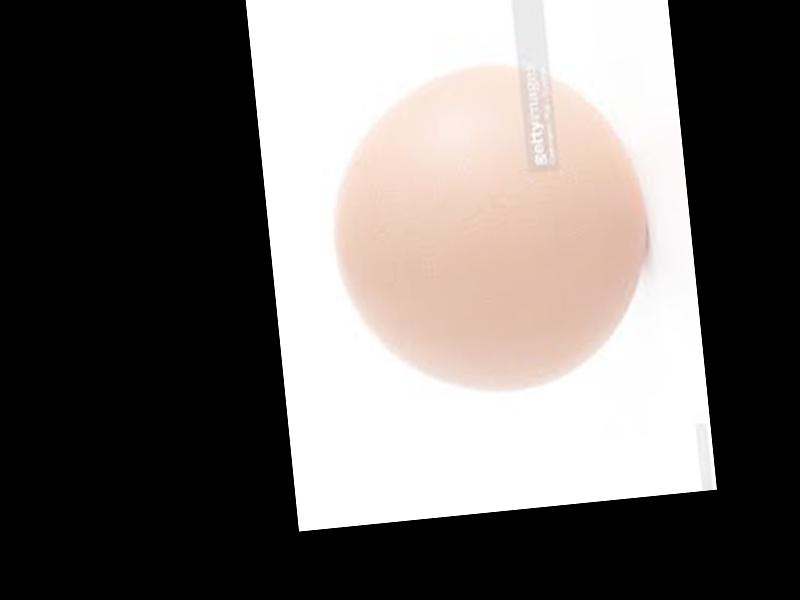Eggs: (317, 50, 655, 405)
